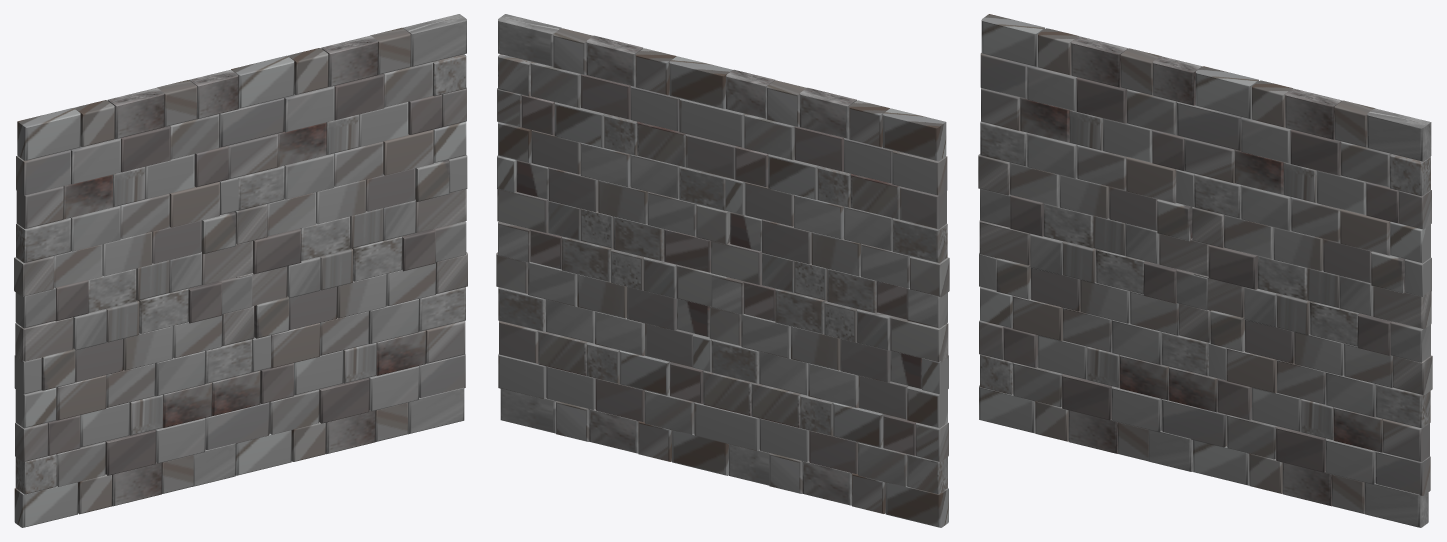
The model's file is murs_4.fbx.
3 renders of one model, left to right at view 1: azimuth 30°, elevation 25°; view 2: azimuth 150°, elevation 25°; view 3: azimuth 330°, elevation 25°, orthographic.
Visible parts, largest first — view 1: polySurface66; view 2: polySurface66; view 3: polySurface66.
Boxes of the visible parts, box(x1,y1,x2,y2) form: polySurface66: box(14, 14, 467, 527); polySurface66: box(496, 14, 949, 527); polySurface66: box(978, 14, 1432, 527).
Bounding box in the file's own units: 97.22 × 83.54 × 4.22.
